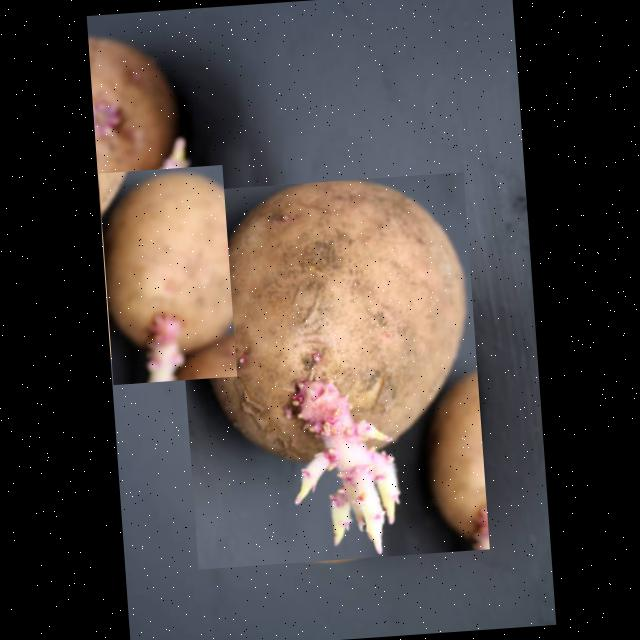Sprouted potato: (171, 172, 488, 569), (97, 164, 235, 384), (86, 16, 186, 230)
